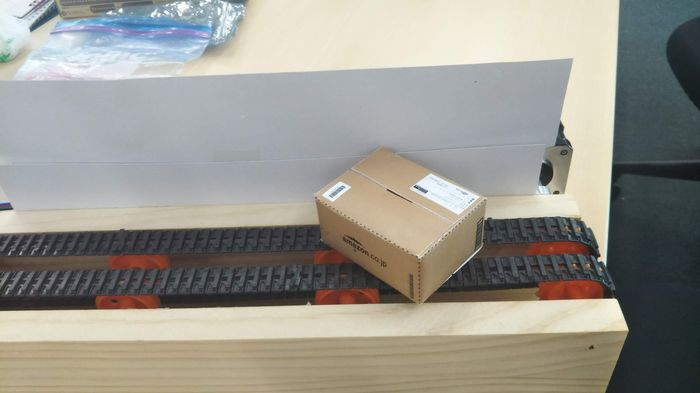box1: (313, 145, 487, 305)
